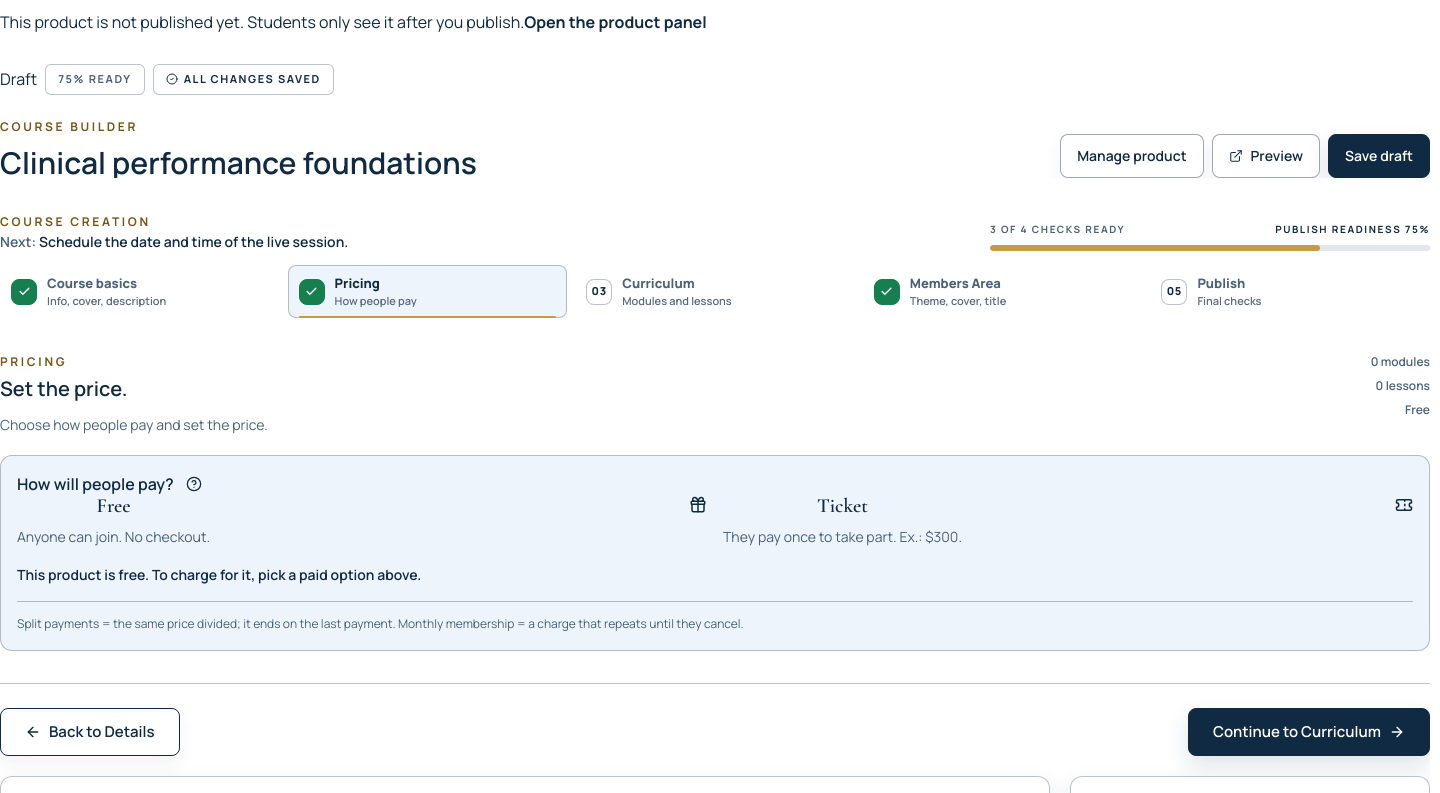
Test: como as pessoas vao pagar › os campos so aparecem depois de escolher: gratis nao tem nenhum
Check: the element "How will people pay?" is shown, box [17, 472, 1413, 549]
Check: the dropdown labelled "Currency" is not shown
What coordinates should you click on to do the following:
click the button "Ticket They pay once to take part. Ex.: $300."
I would click on:
 (842, 506)
Its box is [723, 496, 1413, 549].
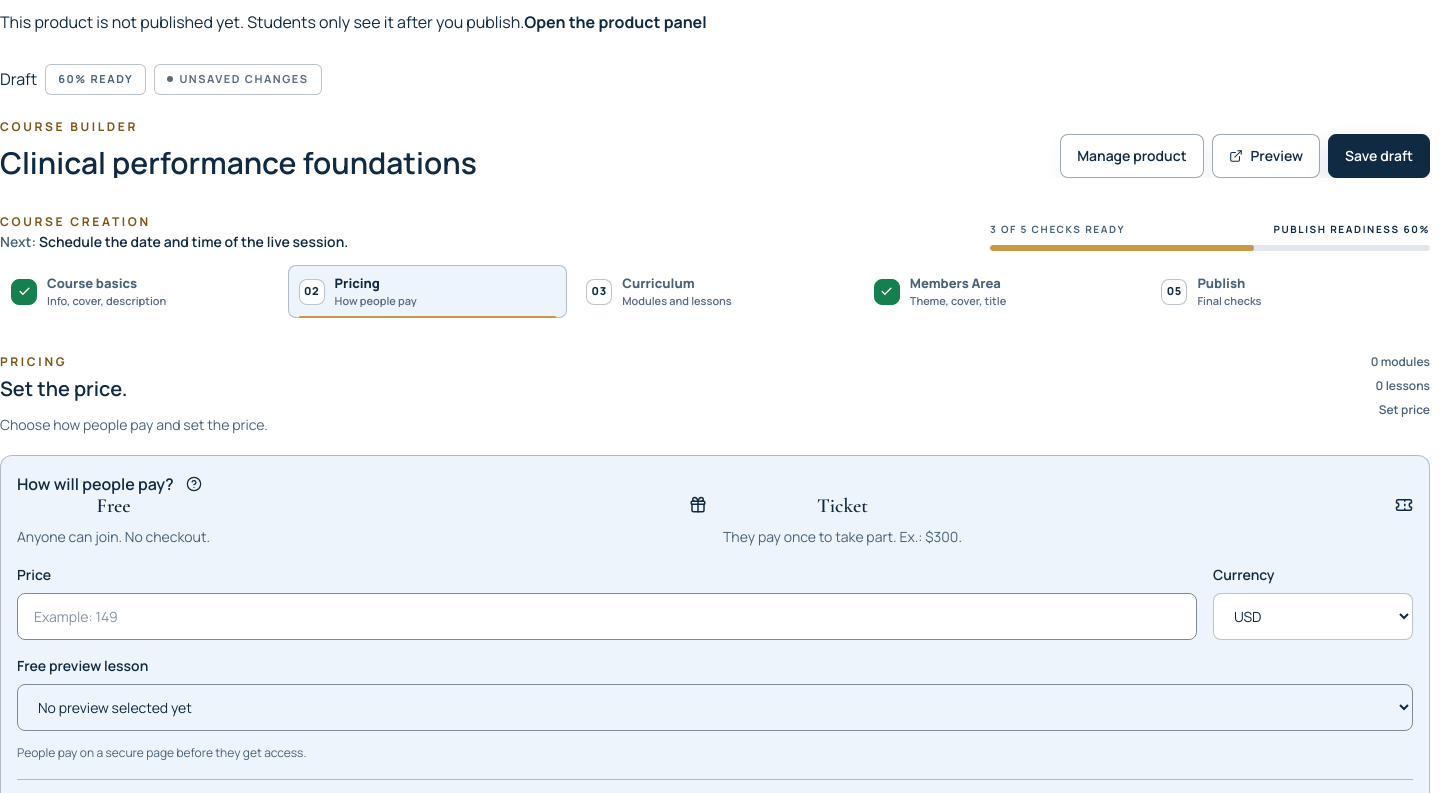
Check: the field labelled "Price" is empty, box [17, 594, 1197, 640]
Check: the dropdown labelled "Currency" is shown, box [1213, 593, 1413, 640]
